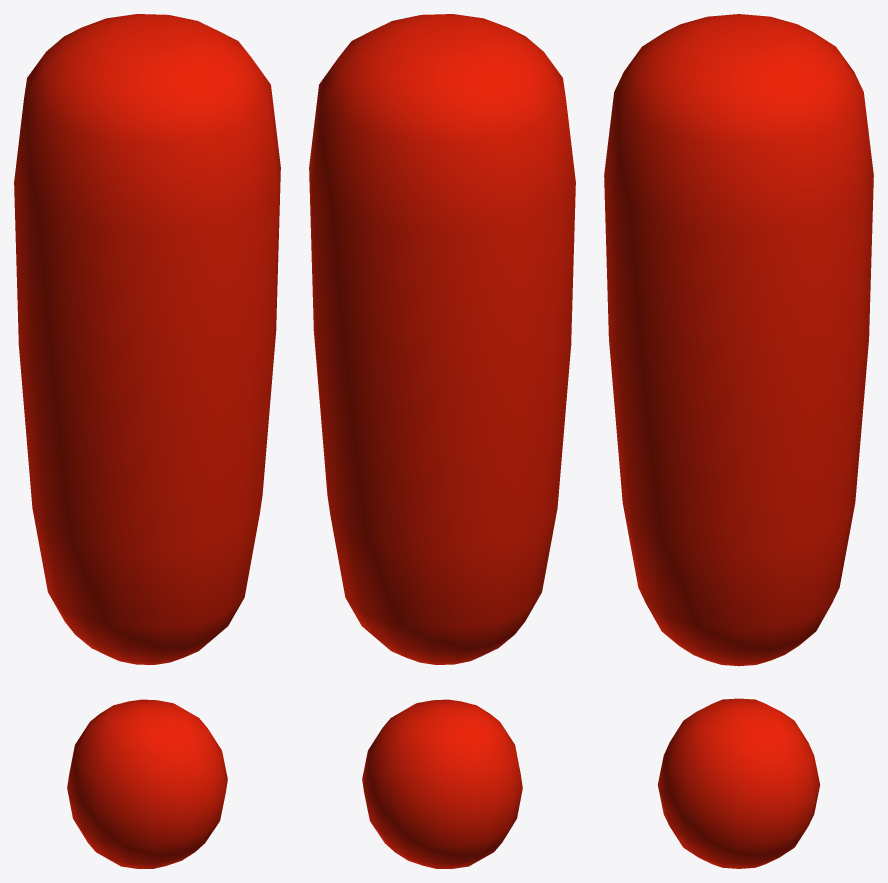
The picture shows the model from 3 angles, left to right: view 1: azimuth 30°, elevation 25°; view 2: azimuth 150°, elevation 25°; view 3: azimuth 270°, elevation 25°; orthographic projection.
Parts seen in each view (by area): view 1: Cylinder; view 2: Cylinder; view 3: Cylinder.
Part boxes in pixels (bbox=[...]): Cylinder: bbox=[14, 14, 280, 868]; Cylinder: bbox=[309, 14, 575, 868]; Cylinder: bbox=[604, 14, 873, 868].
Size of the model in its own units: 0.9976 by 3.38 by 0.9976.
